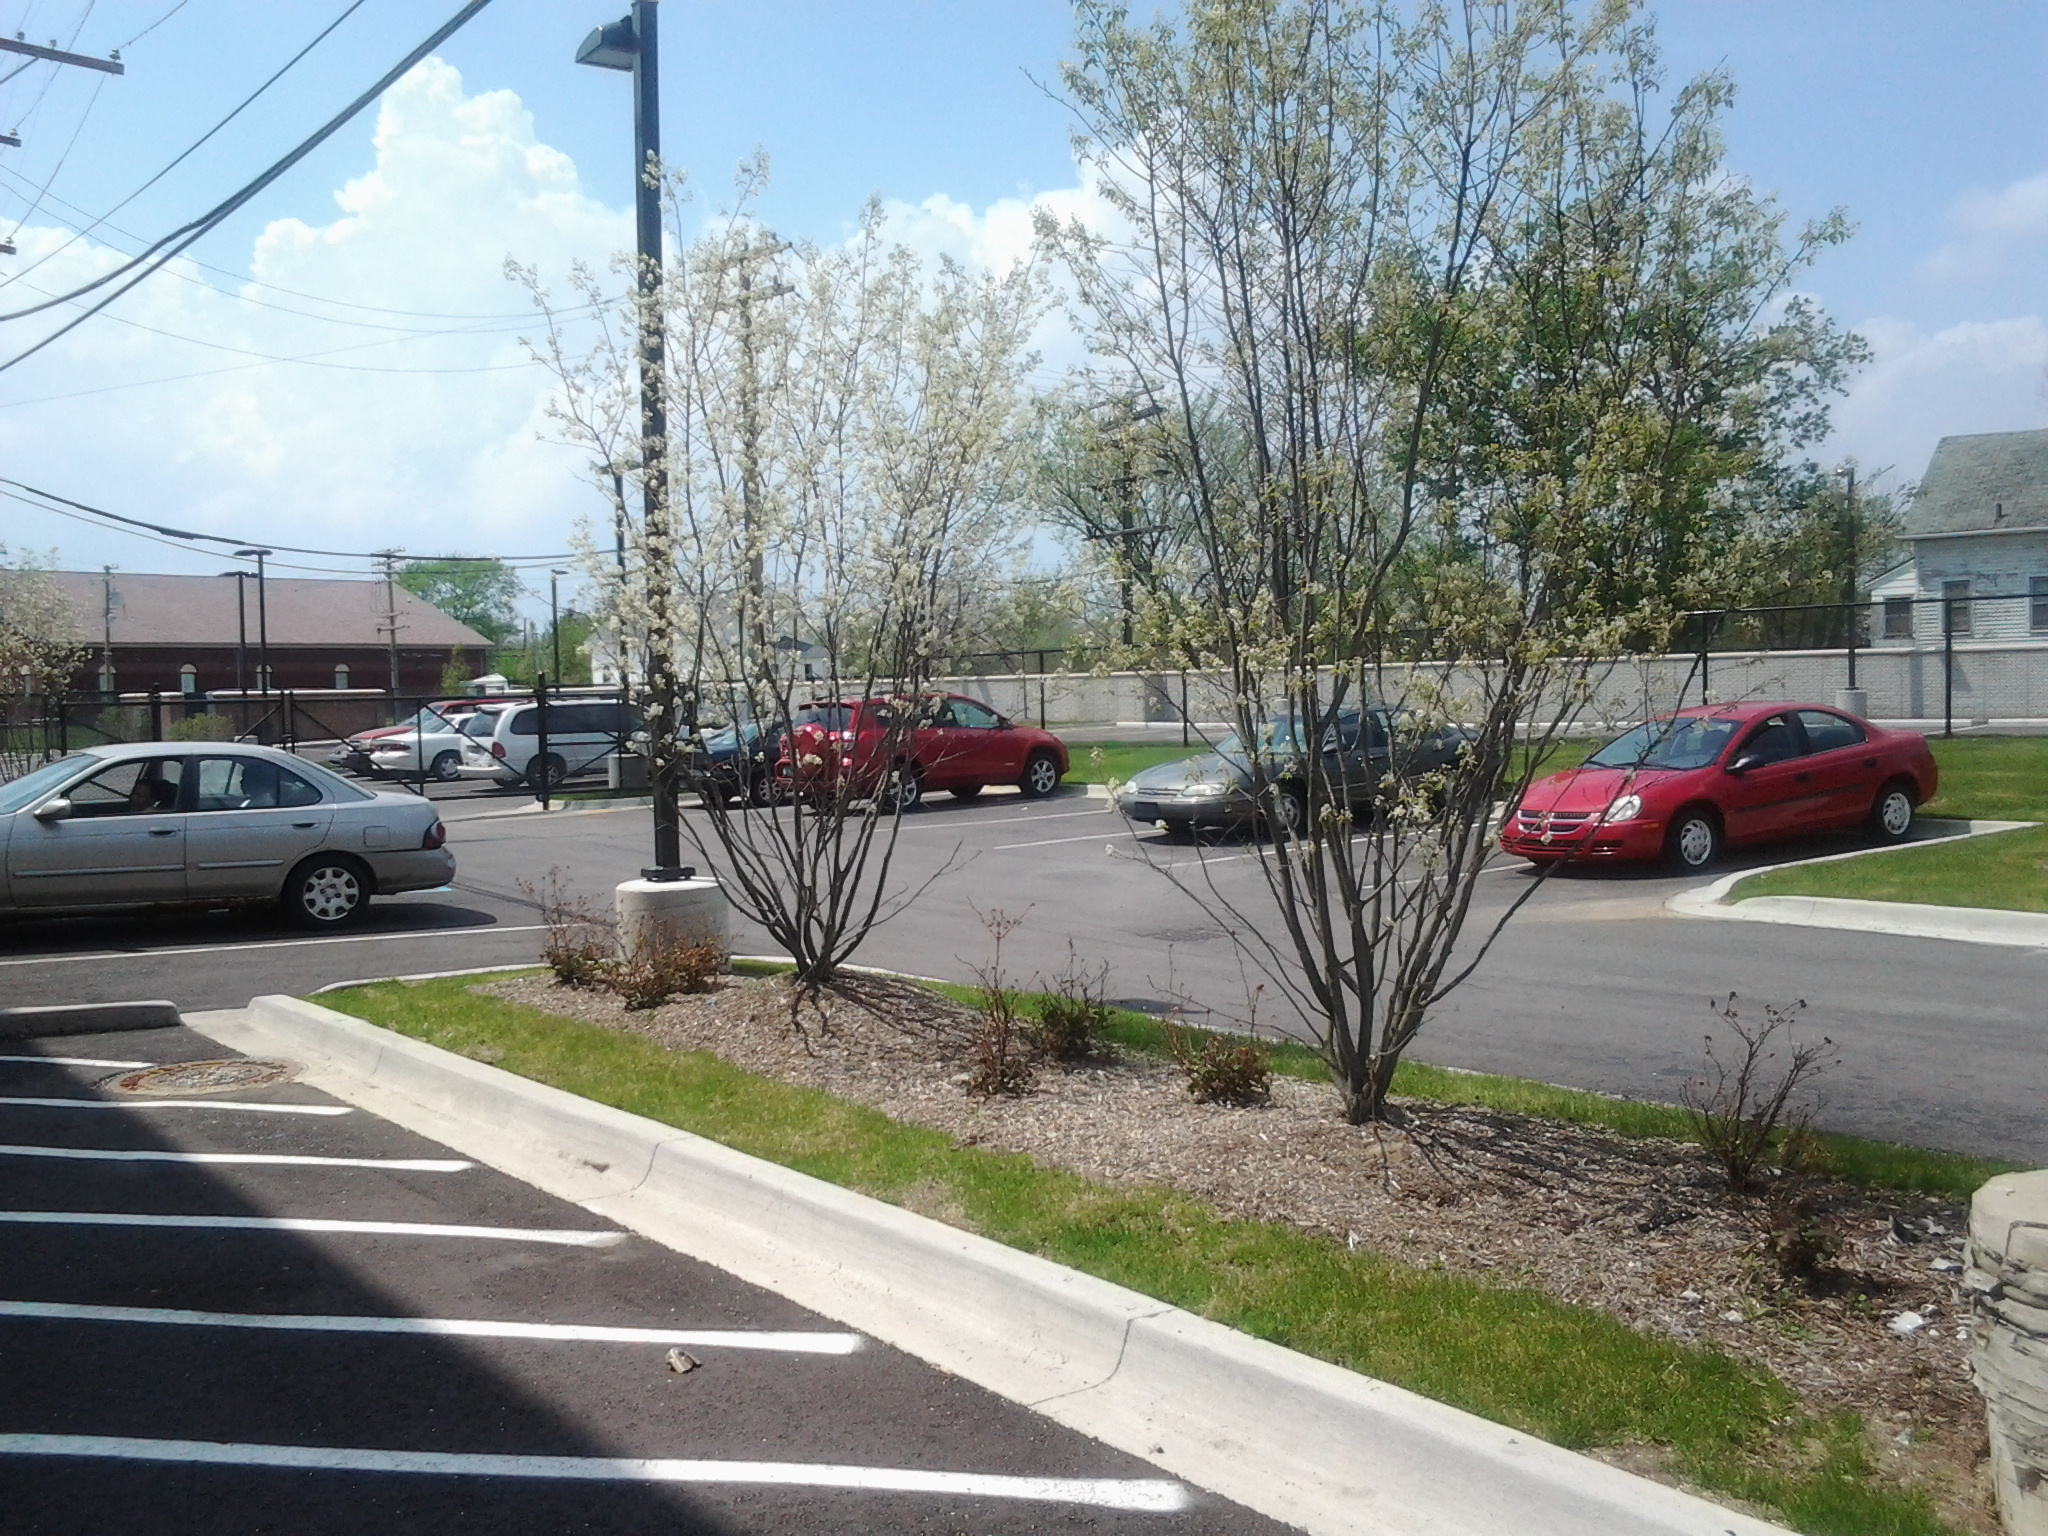empty_space: (3, 925, 684, 1015), (1151, 810, 1571, 887), (806, 781, 1255, 829), (884, 805, 1256, 845)
